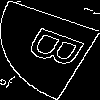B: (25, 25, 98, 75)
